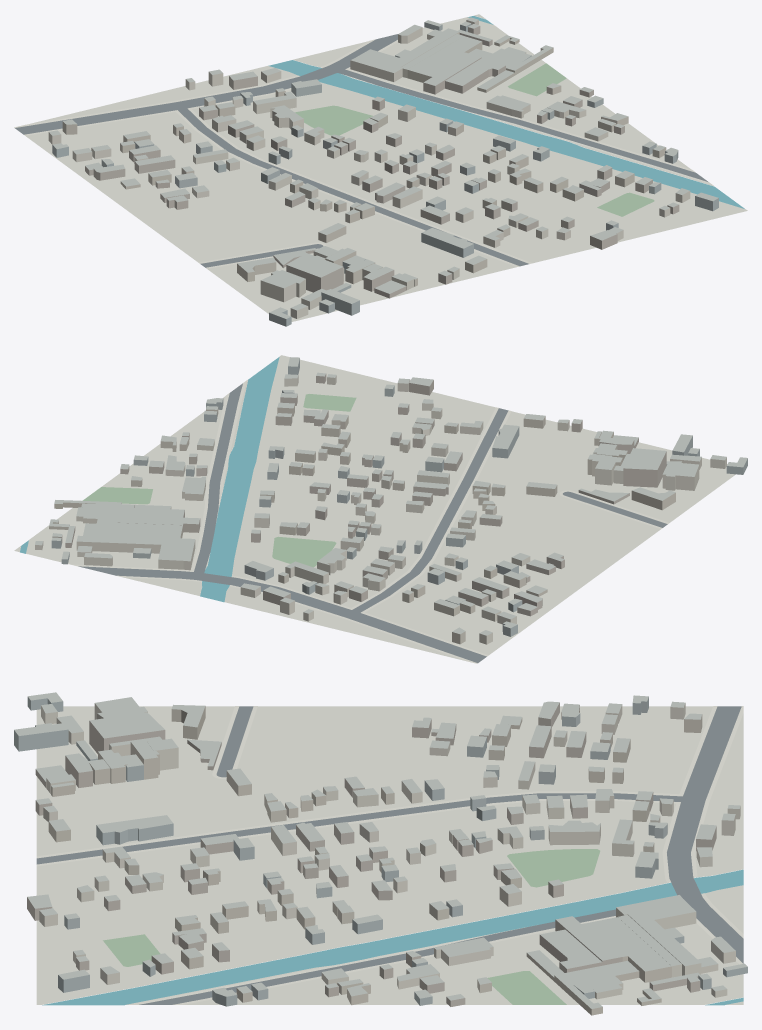
3 views of the same model, one above another, from view 1: azimuth 30°, elevation 25°; view 2: azimuth 150°, elevation 25°; view 3: azimuth 270°, elevation 25° (orthographic). The views are drawn at different scales.
Parts seen in each view (by area): view 1: city; view 2: city; view 3: city.
Part boxes in pixels (<box>): city: <box>14,14,747,326</box>; city: <box>14,355,747,663</box>; city: <box>14,692,747,1015</box>.
Size of the model in its own units: 524 by 18.38 by 519.
